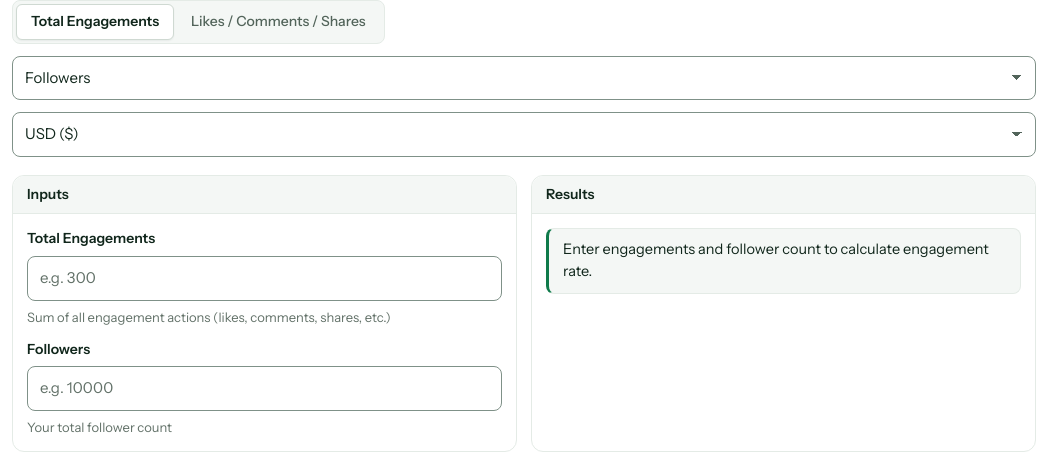
Test: EngagementRateCalculator › shows error when audience size is missing
The image size is (1048, 469).
In the number field with placeholder "e.g. 300": (264, 278) [27,256,502,301], type "300"
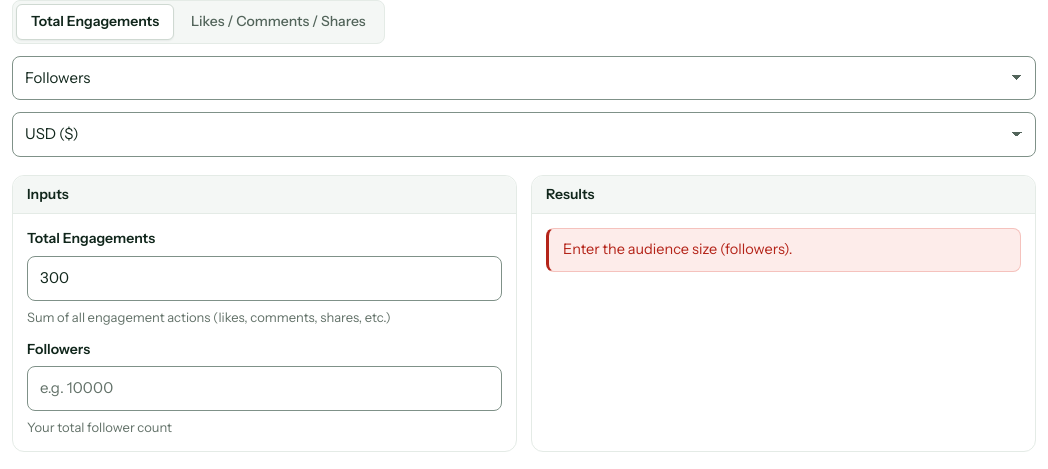
Result: the text "Enter the audience size (followers)." is shown at [546,228,1021,272]
